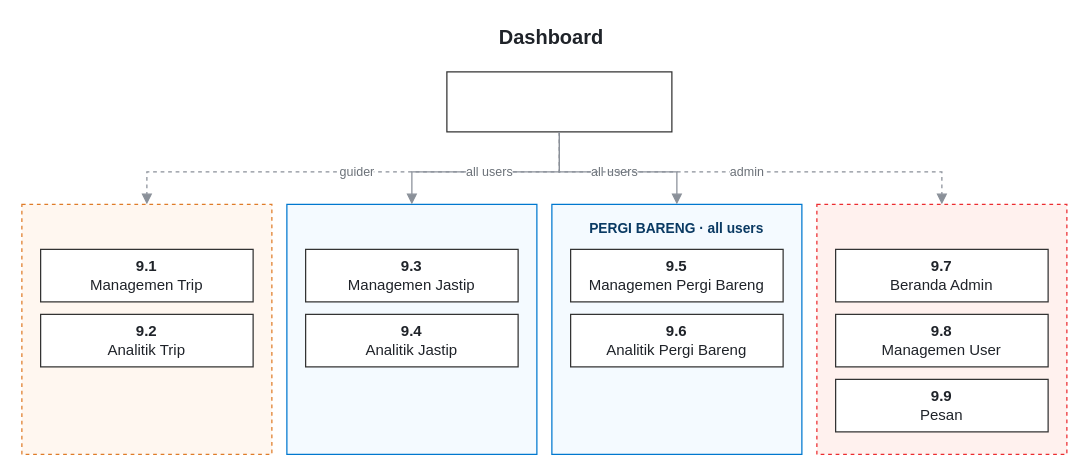
Some shapes in this 1089 by 476 pixel diagram are drawn without their labels. Each missing label, with the box of its shape:
9.0 Dashboard: (446, 71, 672, 132)
ADMIN · admin: (816, 203, 1067, 454)
JASTIPER · all users: (286, 203, 537, 454)
PEMANDU TRIP · guider: (21, 203, 272, 454)
